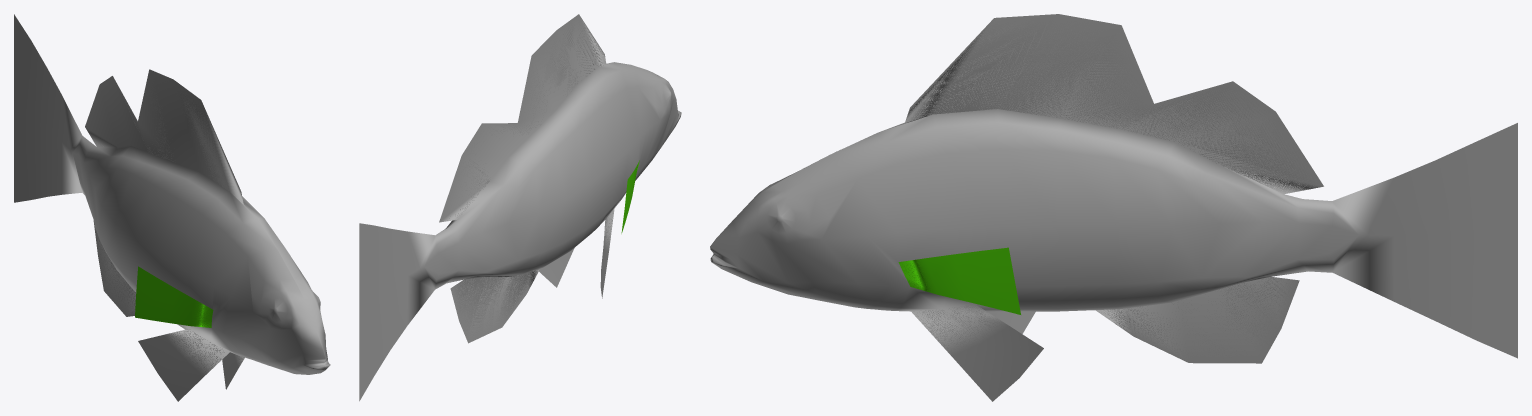
The model's file is Terapontidae_A_S.fbx.
The picture shows the model from 3 angles, left to right: view 1: azimuth 30°, elevation 25°; view 2: azimuth 150°, elevation 25°; view 3: azimuth 270°, elevation 25°; orthographic projection. The views are drawn at different scales.
Parts seen in each view (by area): view 1: Terapontidae_A_S_Mesh; view 2: Terapontidae_A_S_Mesh; view 3: Terapontidae_A_S_Mesh.
Boxes of the visible parts, bbox=[...] form: Terapontidae_A_S_Mesh: bbox=[14, 14, 330, 401]; Terapontidae_A_S_Mesh: bbox=[359, 14, 681, 401]; Terapontidae_A_S_Mesh: bbox=[710, 14, 1517, 401].
Bounding box in the file's own units: 0.00214 × 0.00538 × 0.0106.
